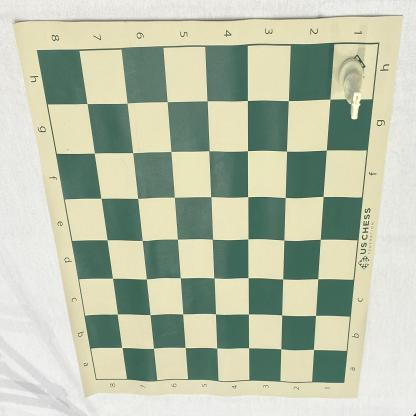white-knight: (337, 57, 364, 119)
